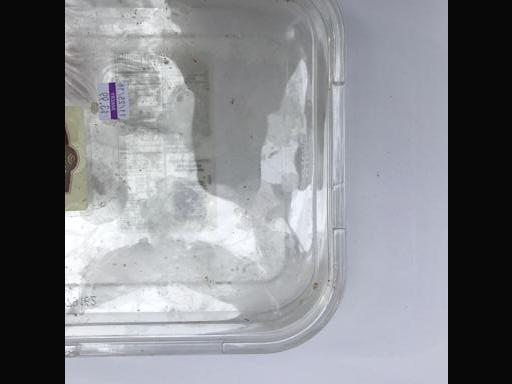bottle: (218, 142, 226, 168)
